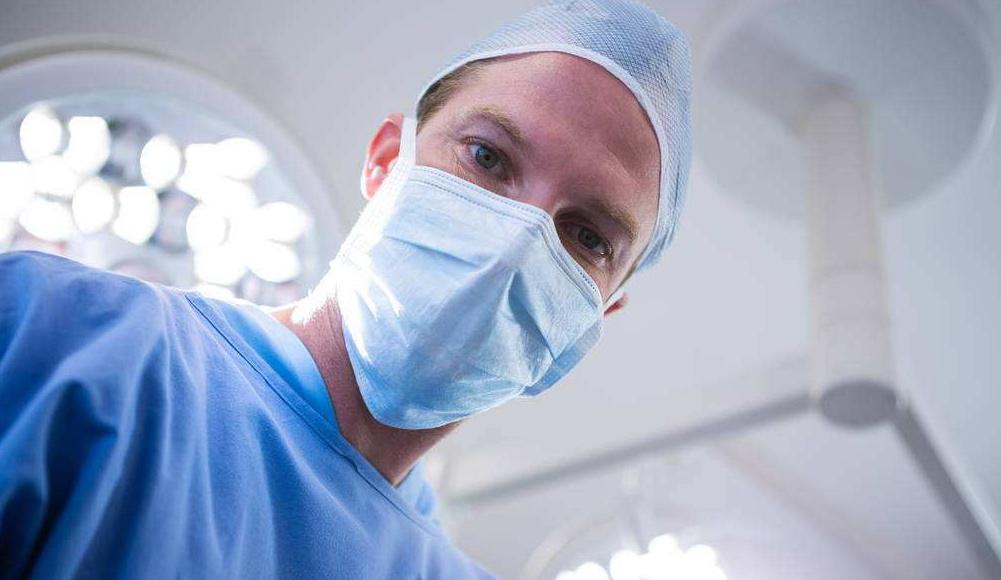OK: (361, 105, 645, 431)
